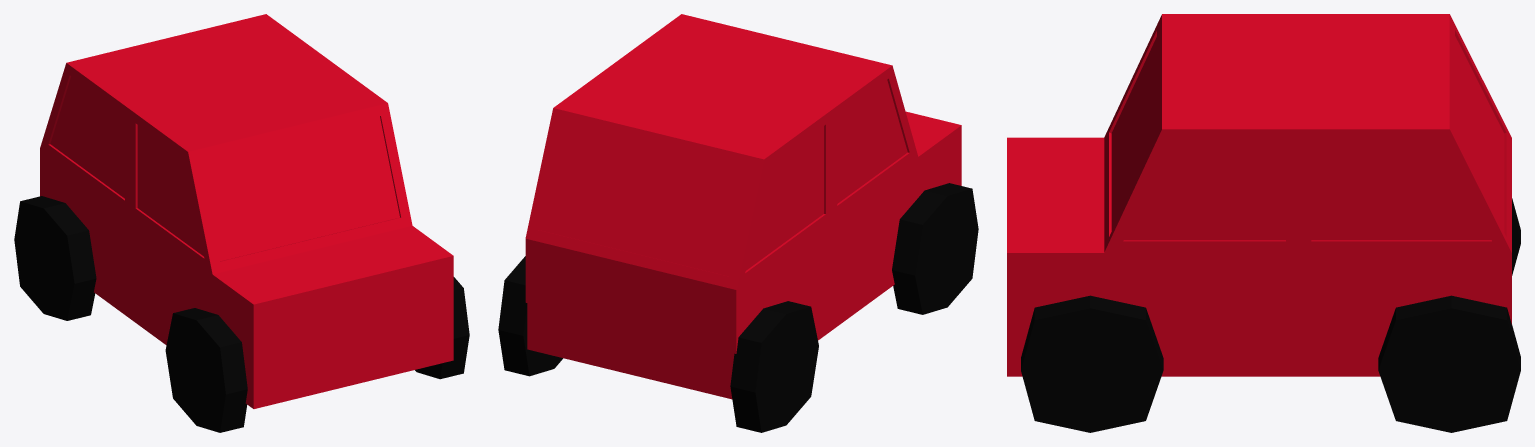
File: Carrito_jugete.fbx
The picture shows the model from 3 angles, left to right: view 1: azimuth 30°, elevation 25°; view 2: azimuth 150°, elevation 25°; view 3: azimuth 270°, elevation 25°; orthographic projection. The views are drawn at different scales.
Parts seen in each view (by area): view 1: Carrito; view 2: Carrito; view 3: Carrito.
Boxes of the visible parts, bbox=[...] form: Carrito: bbox=[14, 14, 469, 432]; Carrito: bbox=[498, 14, 978, 432]; Carrito: bbox=[1007, 14, 1520, 432].
Size of the model in its own units: 2.72 by 2.62 by 4.2.
